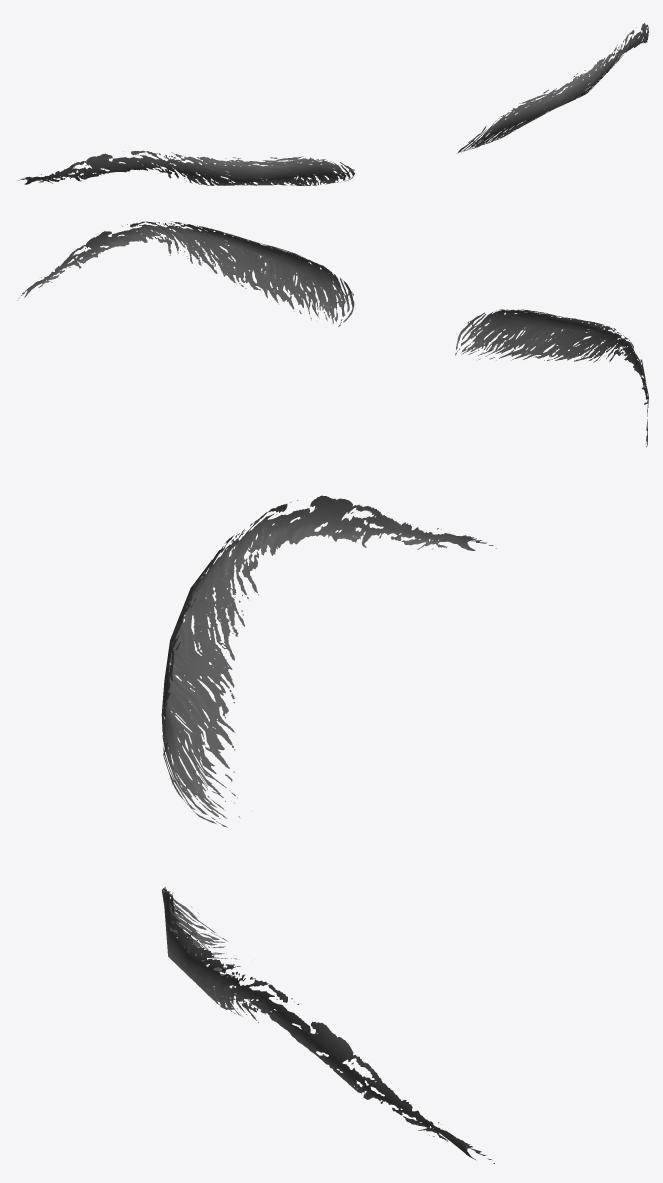
Rendered from brow008.glb.
The picture shows the model from 3 angles, top to bottom: view 1: azimuth 30°, elevation 25°; view 2: azimuth 150°, elevation 25°; view 3: azimuth 270°, elevation 25°; orthographic projection. The views are drawn at different scales.
Visible parts, largest first — view 1: editor_brow008; view 2: editor_brow008; view 3: editor_brow008.
Boxes of the visible parts, x1,y1,x2,y2 form: editor_brow008: (18, 23, 648, 185); editor_brow008: (17, 221, 648, 447); editor_brow008: (161, 495, 496, 1163).
Bounding box in the file's own units: 0.1149 × 0.0136 × 0.0268.
1 material, 1 textured.
